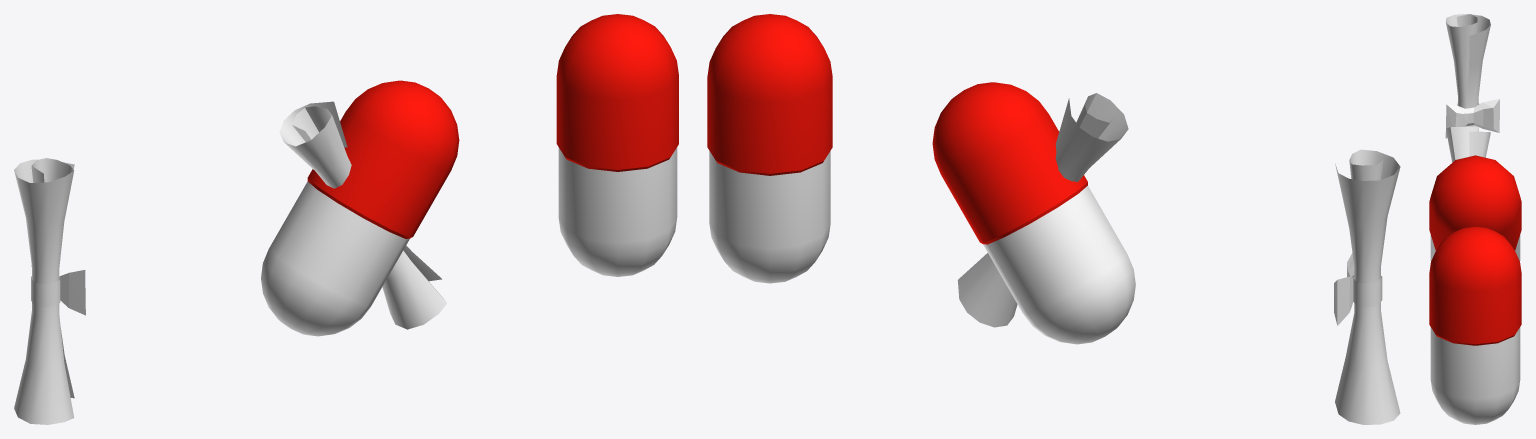
Rendered from ge_mission_capsule.max.fobj.obj.
3 views of the same model, side by side, from view 1: azimuth 30°, elevation 25°; view 2: azimuth 150°, elevation 25°; view 3: azimuth 270°, elevation 25° (orthographic). The views are drawn at different scales.
Parts seen in each view (by area): view 1: ge_mission_capsule, ge_mission_capsule01, initialShadingGroup Line02, ge_mission_courrier, initialShadingGroup Mesh02; view 2: ge_mission_capsule, ge_mission_capsule01, initialShadingGroup Line02, ge_mission_courrier, initialShadingGroup Mesh02; view 3: ge_mission_capsule01, ge_mission_capsule, initialShadingGroup Line02, initialShadingGroup Mesh02, ge_mission_courrier.
Part boxes in pixels (x1,y1,x2,y2): ge_mission_capsule: (261, 80, 459, 336); ge_mission_capsule01: (556, 14, 678, 276); initialShadingGroup Line02: (14, 158, 74, 424); ge_mission_courrier: (279, 101, 446, 329); initialShadingGroup Mesh02: (31, 266, 85, 315); ge_mission_capsule: (932, 82, 1135, 344); ge_mission_capsule01: (707, 14, 832, 283); initialShadingGroup Line02: (1335, 149, 1400, 424); ge_mission_courrier: (957, 93, 1128, 327); initialShadingGroup Mesh02: (1334, 253, 1382, 325); ge_mission_capsule01: (1429, 226, 1521, 424); ge_mission_capsule: (1429, 155, 1521, 260); initialShadingGroup Line02: (1446, 14, 1490, 131); initialShadingGroup Mesh02: (1445, 98, 1499, 138); ge_mission_courrier: (1446, 126, 1490, 162).
Bounding box in the file's own units: 113 × 41.55 × 18.22.
